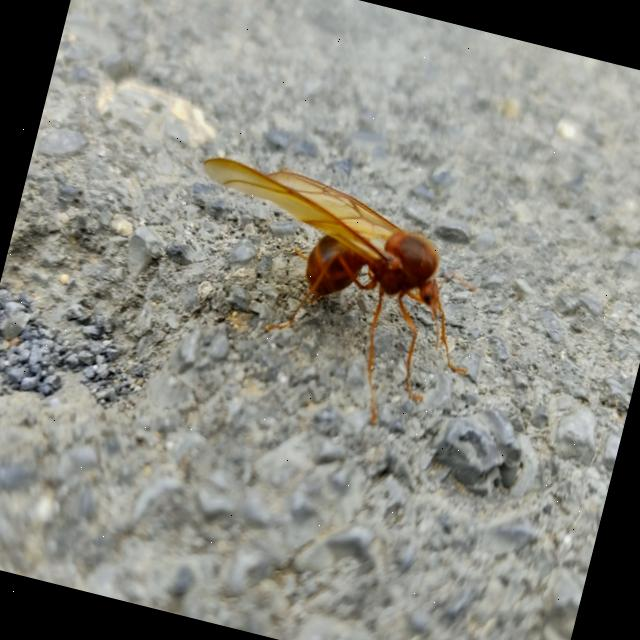Alive-Male-Alate: (152, 149, 503, 441)
